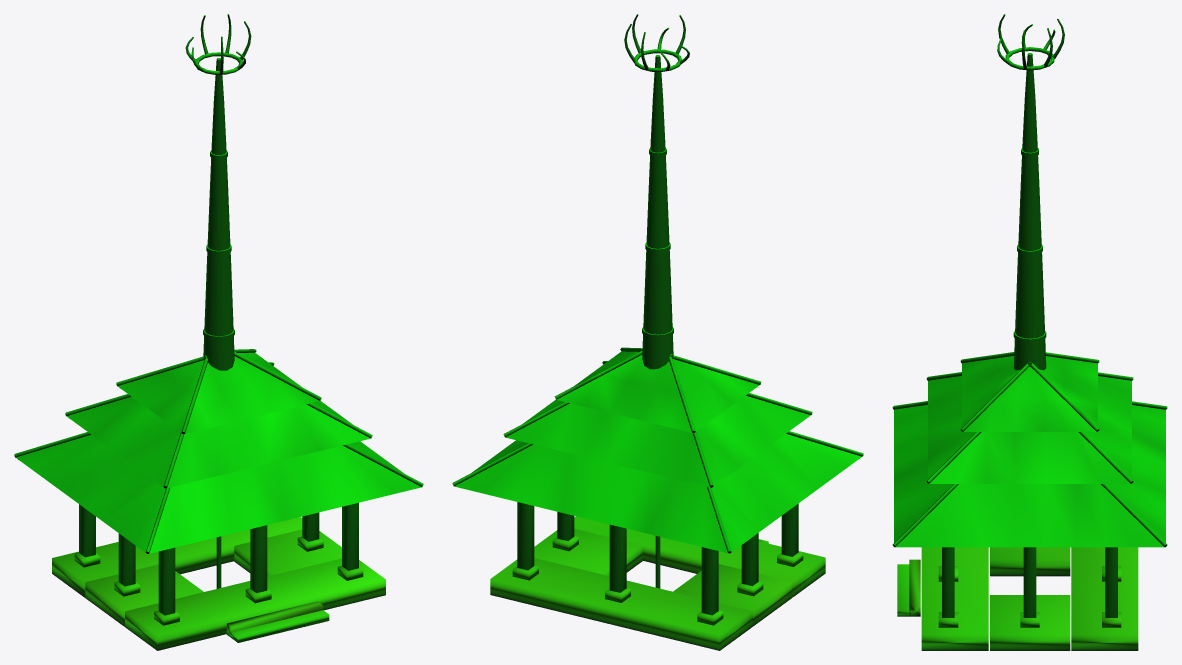
File: crown_pavilion.glb
The picture shows the model from 3 angles, left to right: view 1: azimuth 30°, elevation 25°; view 2: azimuth 150°, elevation 25°; view 3: azimuth 270°, elevation 25°; orthographic projection. The views are drawn at different scales.
Visible parts, largest first — view 1: crown_pavilion; view 2: crown_pavilion; view 3: crown_pavilion.
Boxes of the visible parts, left/top/right/bottom form: crown_pavilion: left=14, top=14, right=423, bottom=650; crown_pavilion: left=452, top=14, right=863, bottom=650; crown_pavilion: left=892, top=14, right=1167, bottom=650.
Size of what is drawn, in the model's own units: 12.11 by 24.73 by 10.11.
